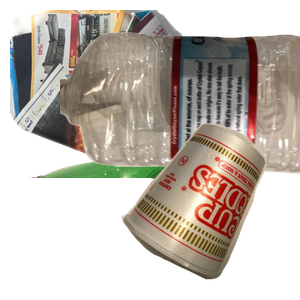glass: (23, 120, 263, 300)
paper: (10, 10, 250, 190)
plastic: (60, 30, 300, 196)
trash: (119, 121, 300, 300)
